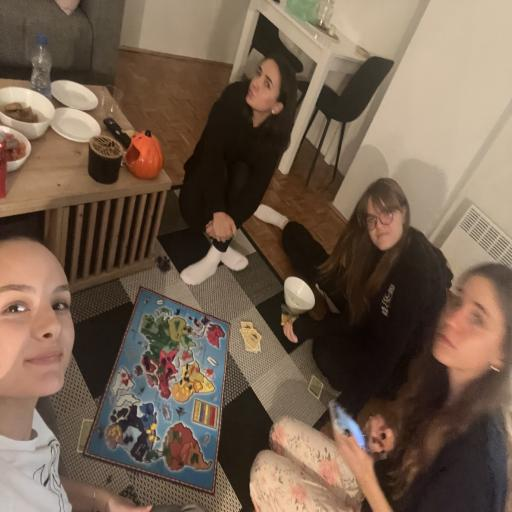marija: (0, 239, 76, 399)
masa: (430, 263, 510, 368)
